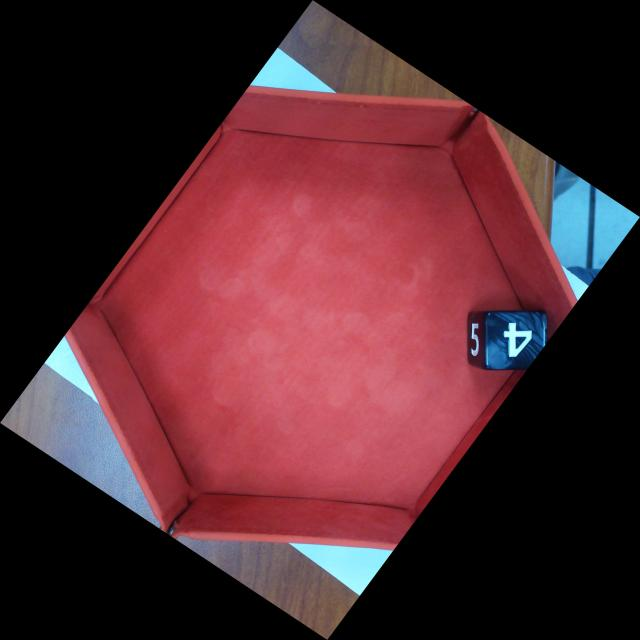dice: (482, 309, 550, 373)
